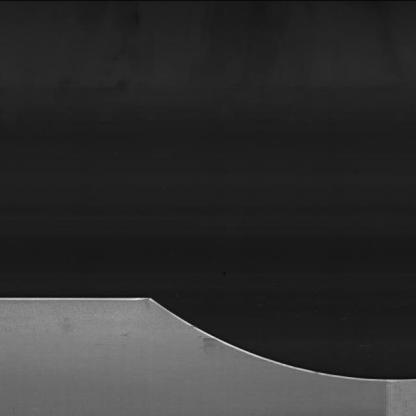crescent_gap: (128, 286, 413, 384)
welding_line: (370, 372, 402, 414)
